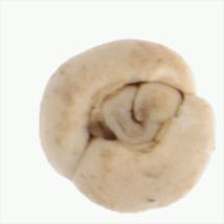L3: (86, 76, 184, 151)
L4: (39, 39, 214, 213)
